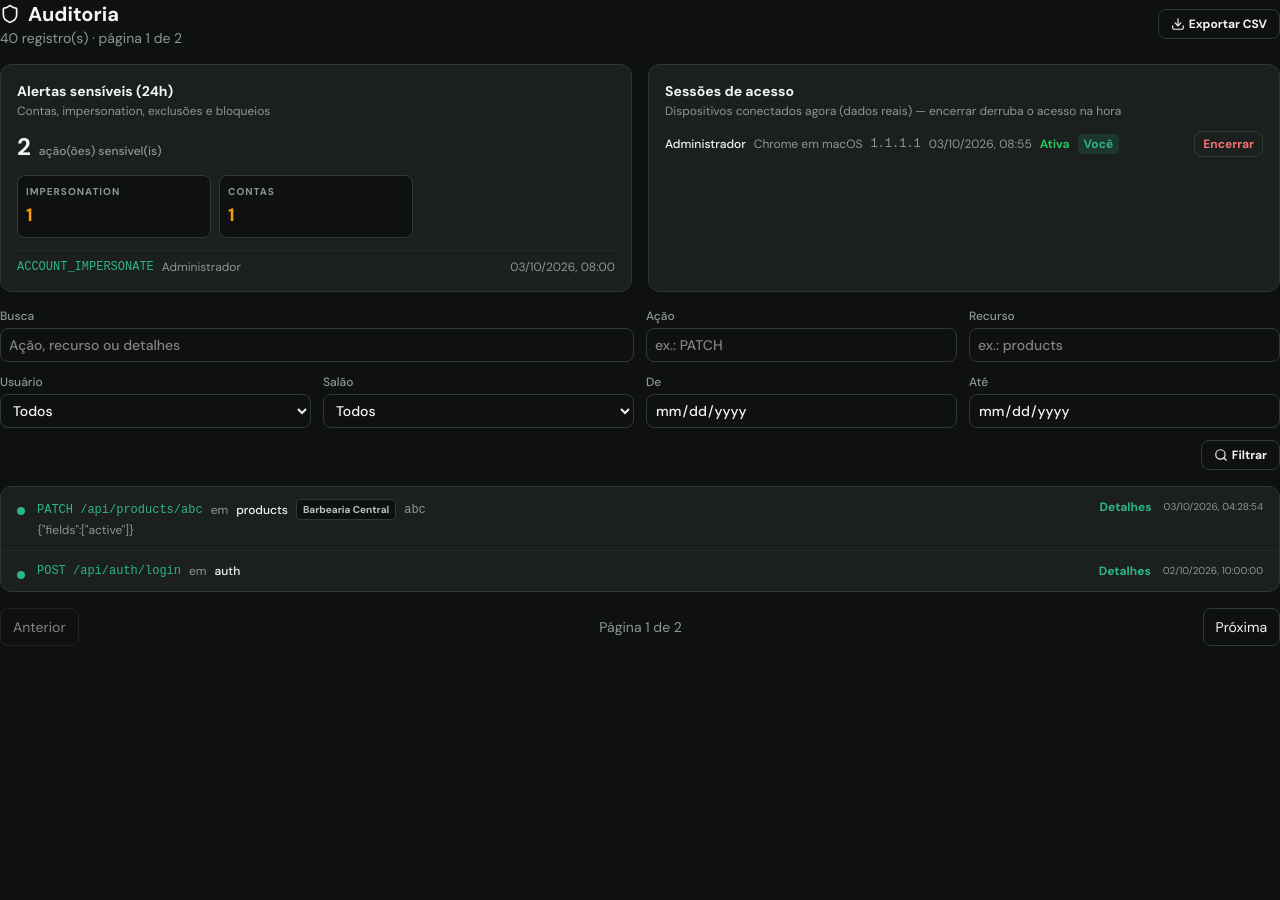
Test: AuditPage › abre o modal de detalhes com JSON mascarado
The width and height of the screenshot is (1280, 900).
expect the heading "Auditoria" is shown: met, box left=0, top=1, right=119, bottom=27
Step 1. Click the button "Detalhes" next to "03/10/2026, 04:28:54" → (1126, 507), box left=1100, top=499, right=1152, bottom=515
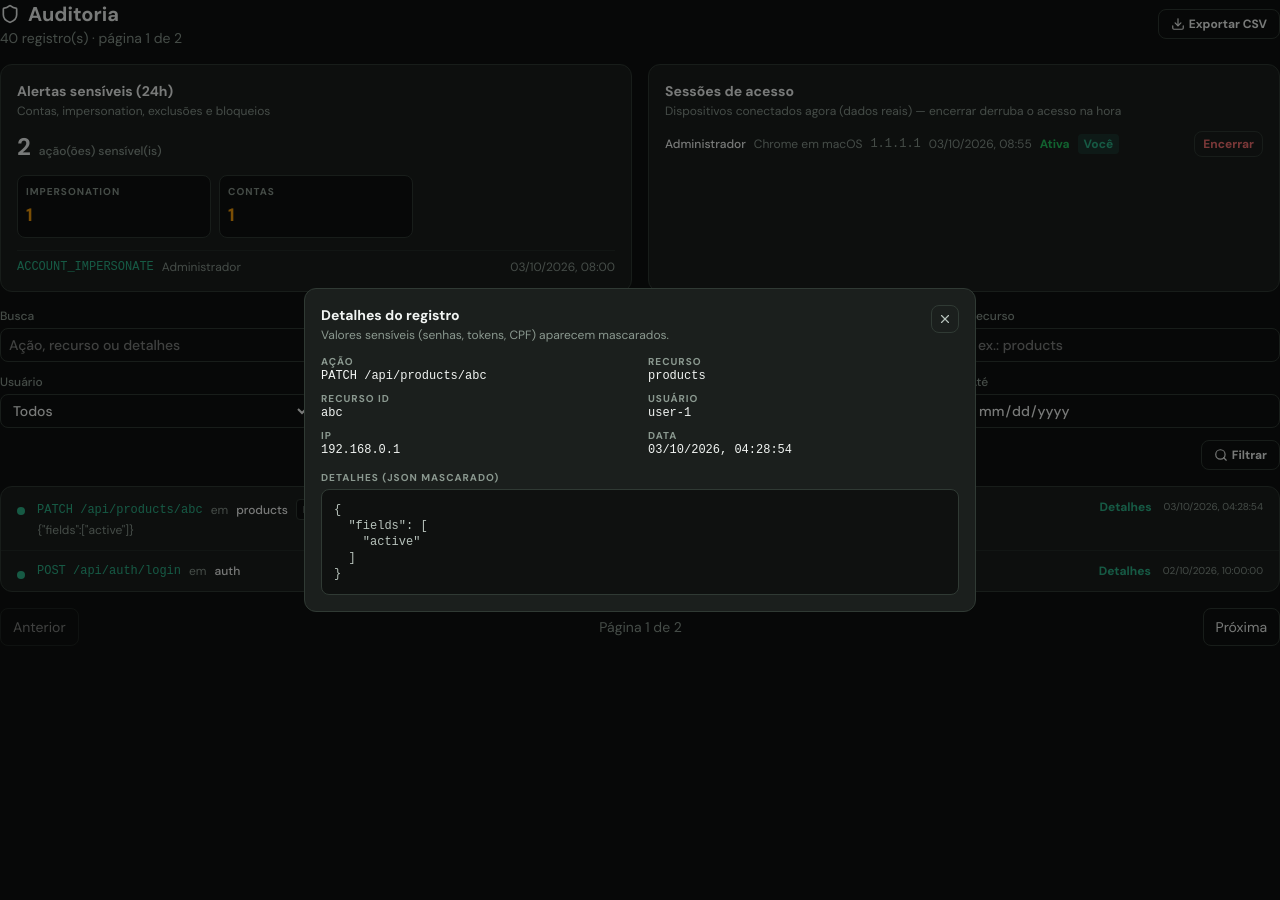
expect the dialog is shown: met, box left=304, top=288, right=976, bottom=612
expect the heading "Detalhes do registro" is shown: met, box left=321, top=306, right=460, bottom=324
expect the text "{ \"fields\": [ \"active\" ] }" is shown: met, box left=321, top=490, right=959, bottom=596
Step 2. Click the button named "Fechar detalhes" → (945, 318), box left=931, top=304, right=959, bottom=332
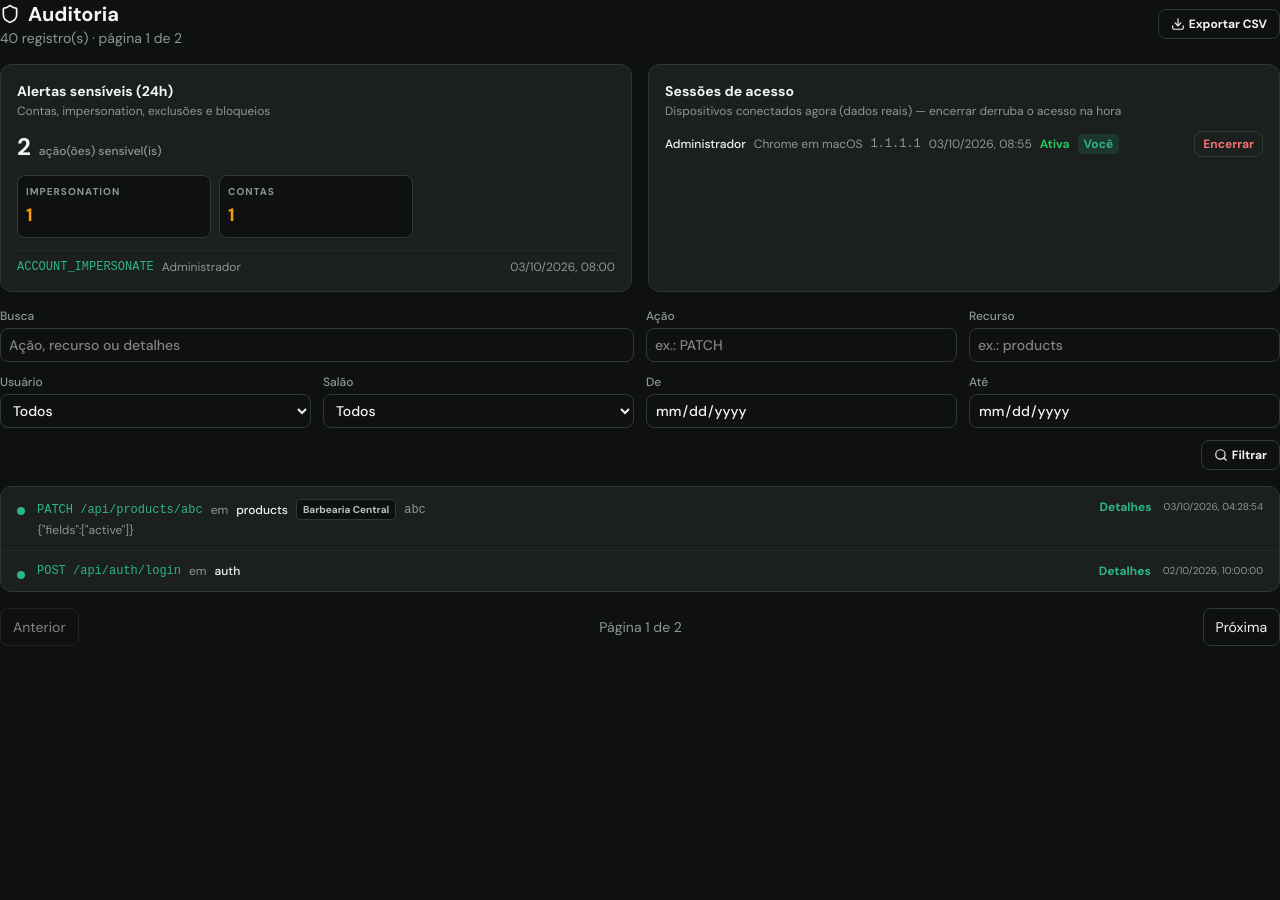
expect the dialog is gone: met
